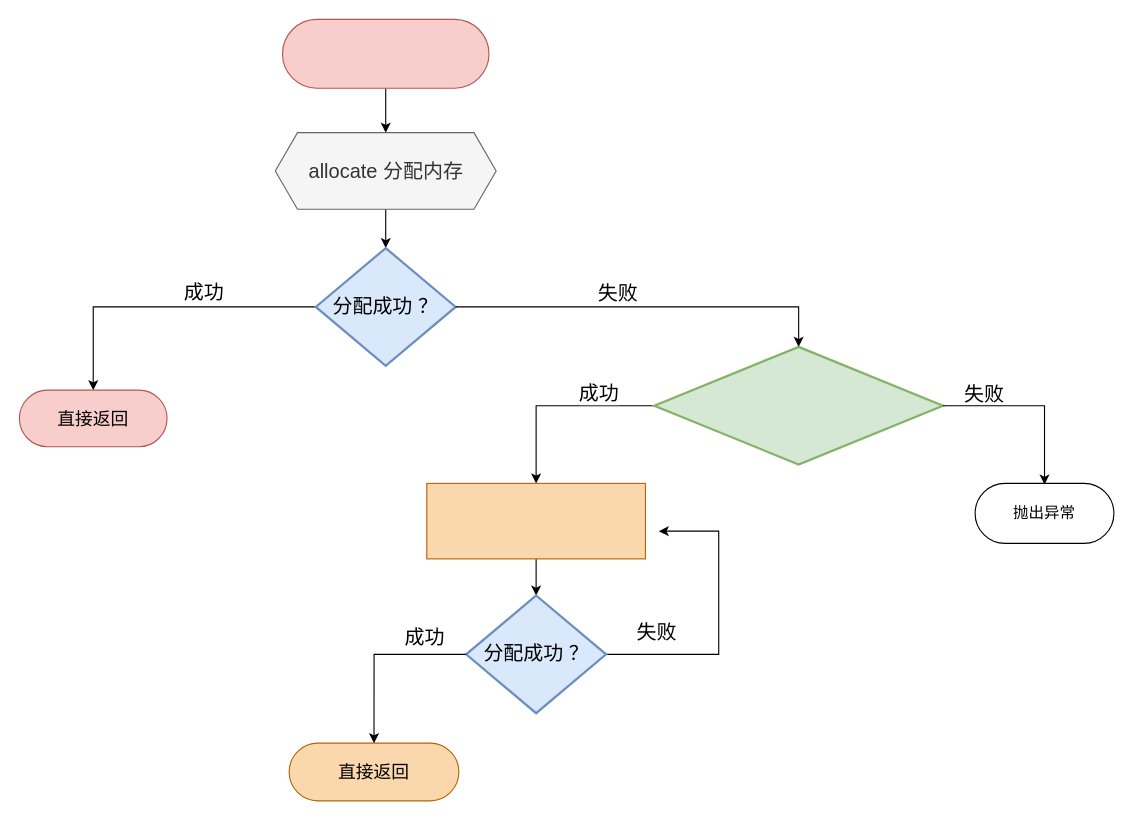
This 1133x820 diagram has some shape labels left out. Here are the shapes that lost their labels. From the top down, the centre of each, then its label:
the point at 385,53: 一级空间配置器
the point at 798,405: 是否设置了内存分配失败的处理函数？
the point at 535,520: 执行处理函数，清理内存，然后尝试分配出一块内存
